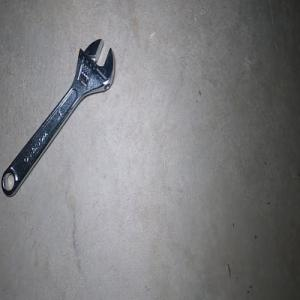Wrench: (1, 38, 114, 196)
